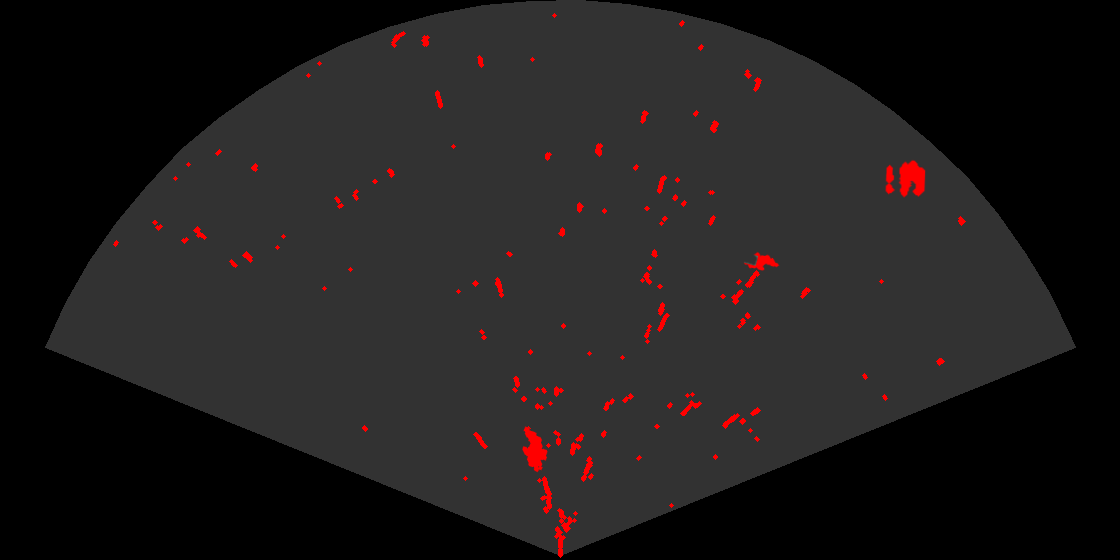AUV: (521, 425, 549, 474), (742, 250, 781, 272)
ball: (884, 158, 927, 199)
